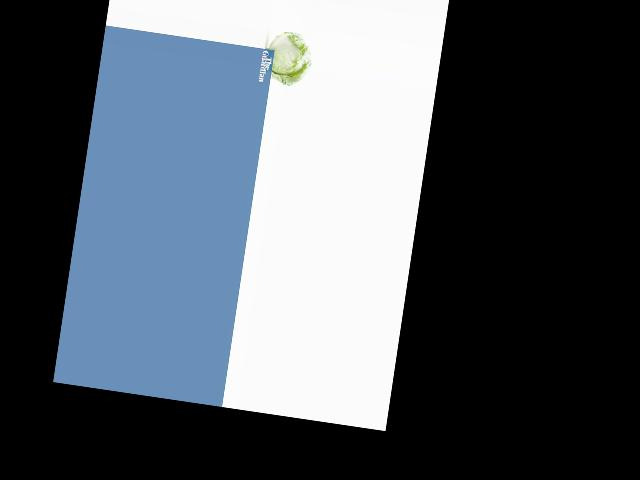lettuce: (263, 29, 318, 87)
